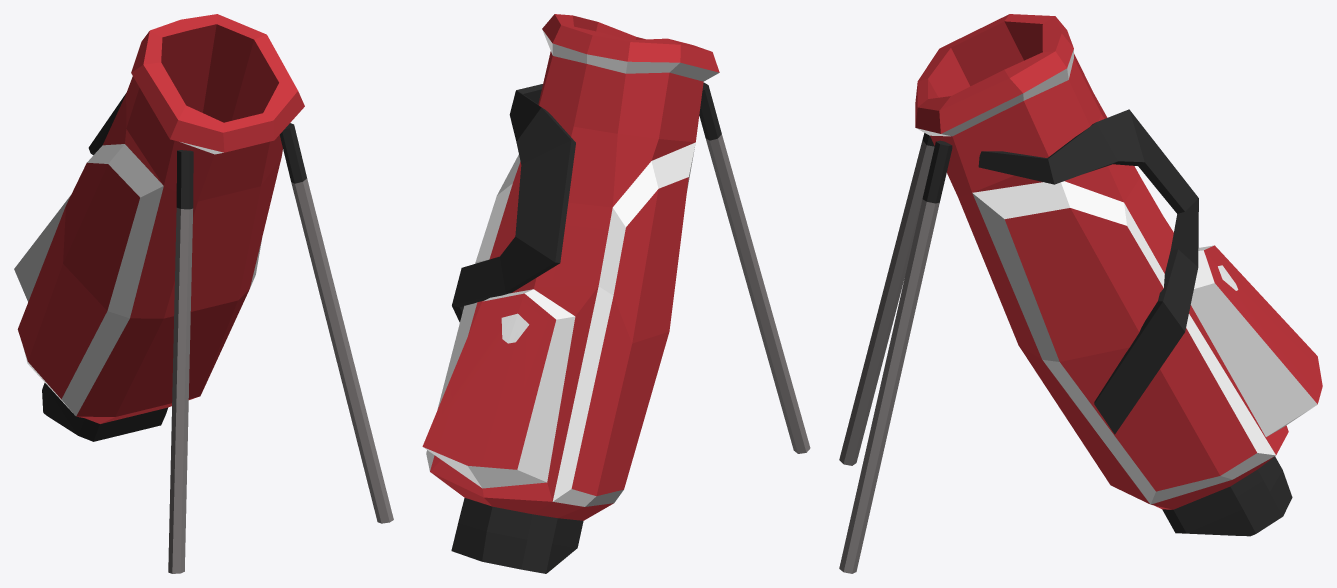
Rendered from golf-bag.glb.
The picture shows the model from 3 angles, left to right: view 1: azimuth 30°, elevation 25°; view 2: azimuth 150°, elevation 25°; view 3: azimuth 270°, elevation 25°; orthographic projection. The views are drawn at different scales.
Parts seen in each view (by area): view 1: golf-bag; view 2: golf-bag; view 3: golf-bag.
Part boxes in pixels (x1,y1,x2,y2): golf-bag: (14, 14, 393, 573); golf-bag: (422, 14, 810, 573); golf-bag: (839, 14, 1322, 573).
Bounding box in the file's own units: 0.6343 × 1.24 × 1.13.
Materials: 1 (1 with a texture image).
